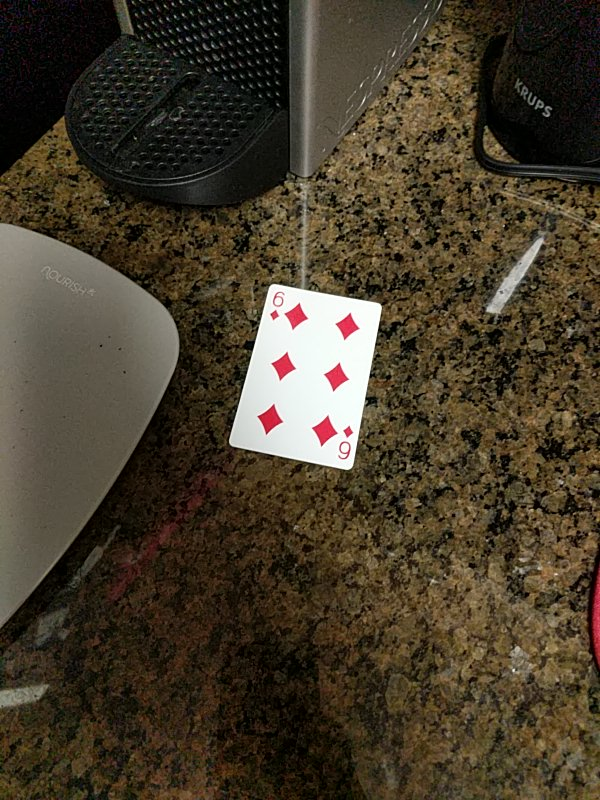Diamonds: (226, 283, 383, 472)
